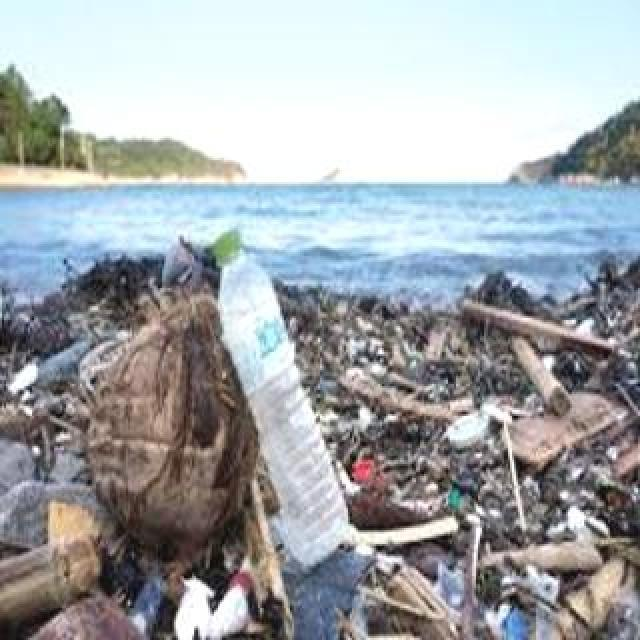Pet_Bottle: (212, 229, 348, 567)
